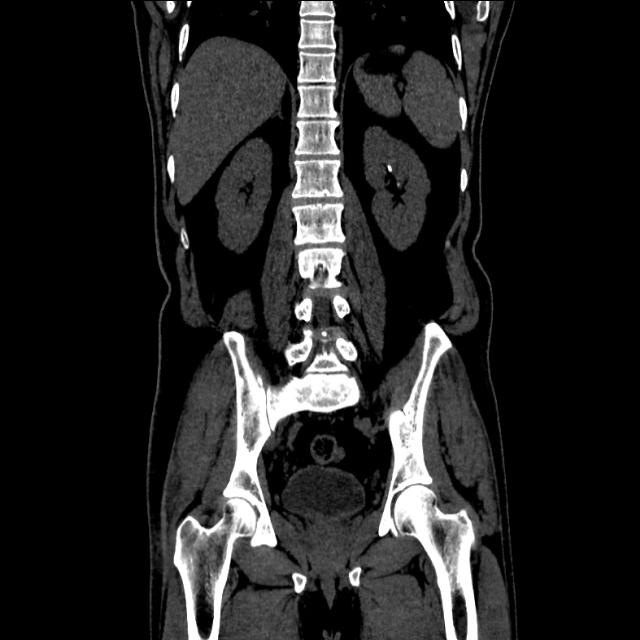kidney: (367, 130, 432, 243), (228, 141, 270, 246)
stone: (387, 166, 393, 172)
